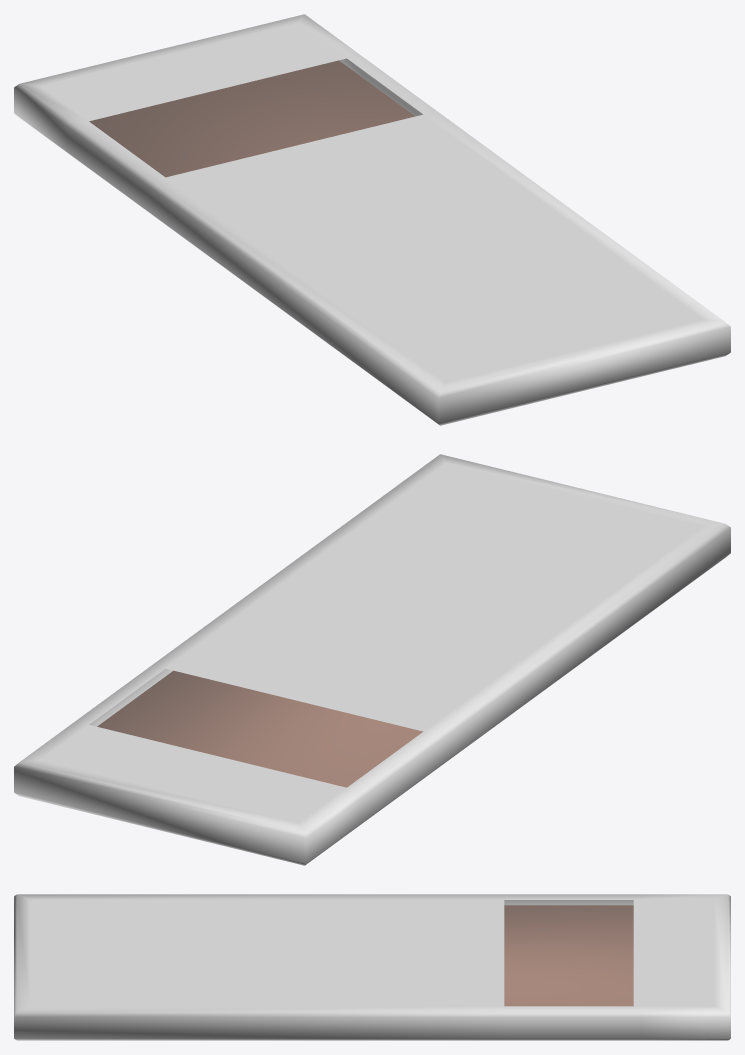
The model's file is Chocolate_Tablet_02.fbx.
3 views of the same model, one above another, from view 1: azimuth 30°, elevation 25°; view 2: azimuth 150°, elevation 25°; view 3: azimuth 270°, elevation 25° (orthographic). The views are drawn at different scales.
Parts seen in each view (by area): view 1: Chocolate_Tablet_02; view 2: Chocolate_Tablet_02; view 3: Chocolate_Tablet_02.
Boxes of the visible parts, x1,y1,x2,y2 form: Chocolate_Tablet_02: [14, 14, 730, 425]; Chocolate_Tablet_02: [14, 454, 730, 865]; Chocolate_Tablet_02: [14, 894, 730, 1040].
Size of the model in its own units: 24.3 by 2.69 by 61.05.
